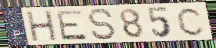5: (146, 5, 175, 40)
8: (118, 7, 145, 39)
C: (175, 6, 206, 37)
E: (55, 9, 89, 42)
H: (25, 10, 59, 43)
S: (86, 7, 118, 41)
